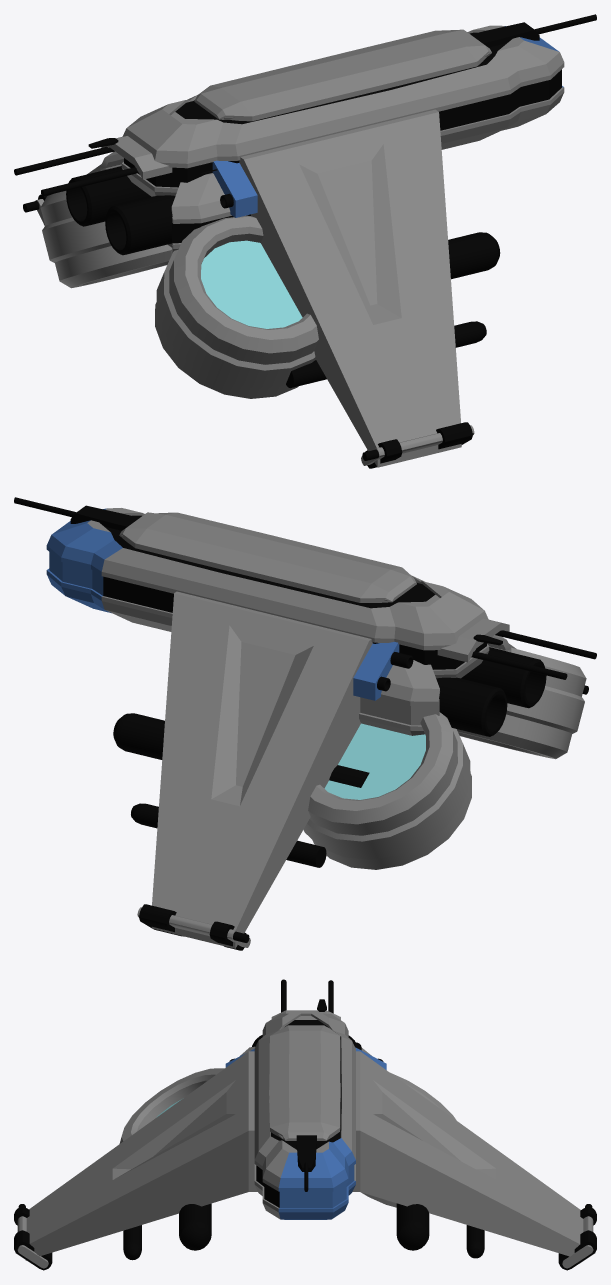
The model's file is HumanShipB.fbx.
3 views of the same model, one above another, from view 1: azimuth 30°, elevation 25°; view 2: azimuth 150°, elevation 25°; view 3: azimuth 270°, elevation 25° (orthographic). The views are drawn at different scales.
Visible parts, largest first — view 1: HumanShipB; view 2: HumanShipB; view 3: HumanShipB.
Part boxes in pixels (bbox=[...]): HumanShipB: bbox=[14, 14, 596, 468]; HumanShipB: bbox=[14, 497, 596, 950]; HumanShipB: bbox=[14, 979, 596, 1270].
Bounding box in the file's own units: 6.17 × 2.65 × 6.59.
